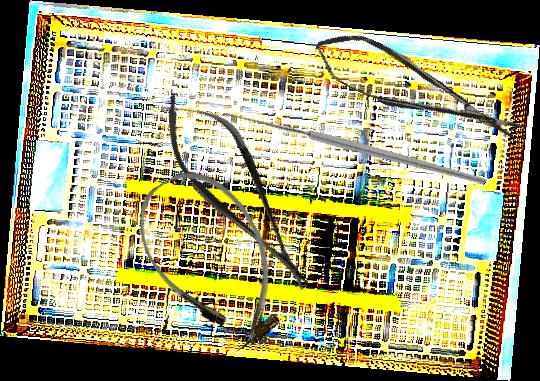Cannula: (119, 153, 306, 367)
Hook Surgical: (212, 14, 488, 290)
Micro Scissor: (142, 76, 333, 309), (306, 18, 527, 163)
